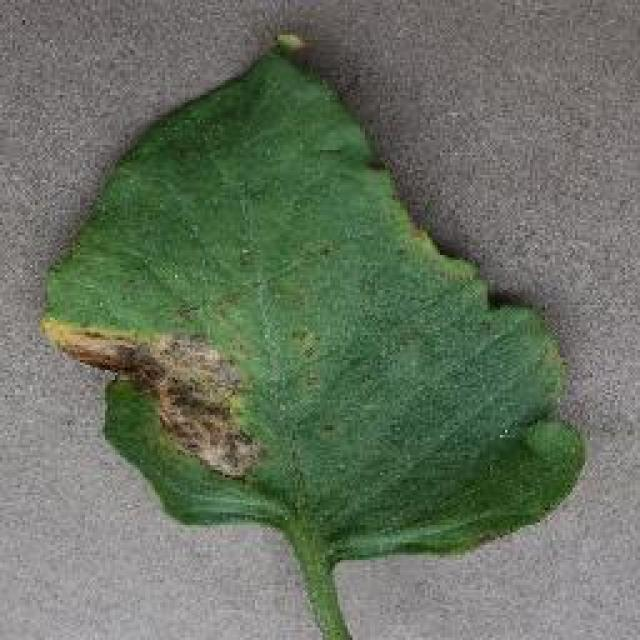Tomato bacterial spot leaf: (33, 23, 597, 640)
